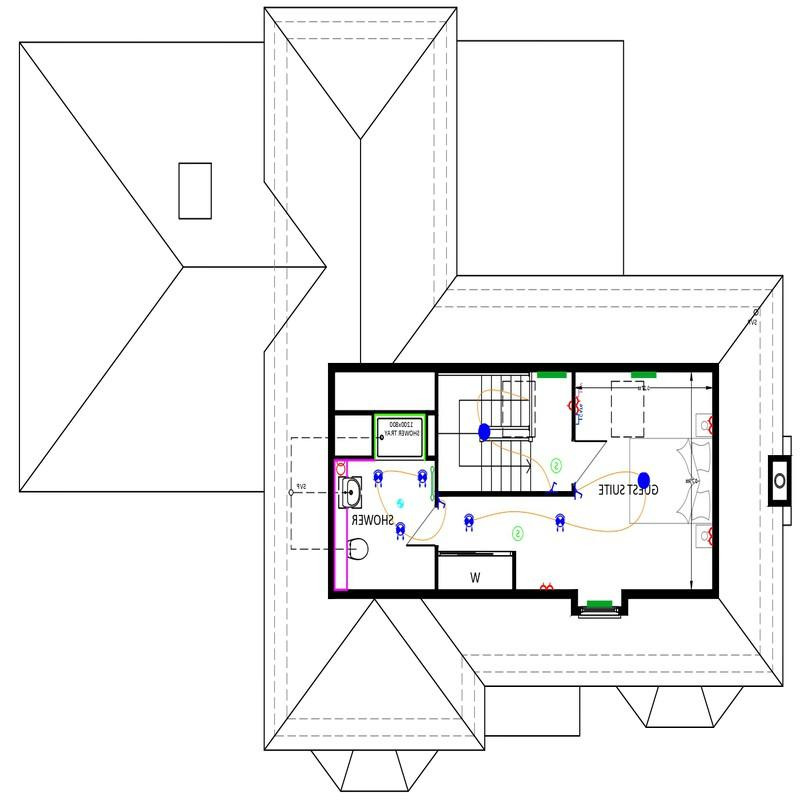Cat 6 Data Socket: (573, 414, 588, 428)
Ceiling Mounted Continuous Extract Fan With Boost Mode Activated By Light Switch: (395, 493, 407, 515)
Co-Ax TV Socket: (575, 383, 586, 399)
Double Socket: (701, 411, 714, 438), (534, 578, 560, 591), (703, 516, 712, 552), (574, 397, 589, 414)
Full Height Tiling: (372, 412, 428, 462)
Light Switch: (546, 475, 561, 493), (574, 484, 586, 502), (437, 496, 447, 512)
Low Energy Downlighter: (411, 465, 429, 498), (550, 510, 571, 537), (458, 511, 479, 536), (392, 521, 413, 543), (369, 467, 387, 491)
Low Energy Pendant Light: (630, 468, 663, 491), (477, 418, 494, 453)
Mains Wired Smoke Detector: (510, 521, 530, 546), (549, 456, 565, 476)
Radiator: (534, 369, 572, 384), (583, 595, 617, 610), (623, 370, 661, 379)
Shaver Socket: (334, 455, 347, 483)
Single Socket: (562, 396, 573, 416)
